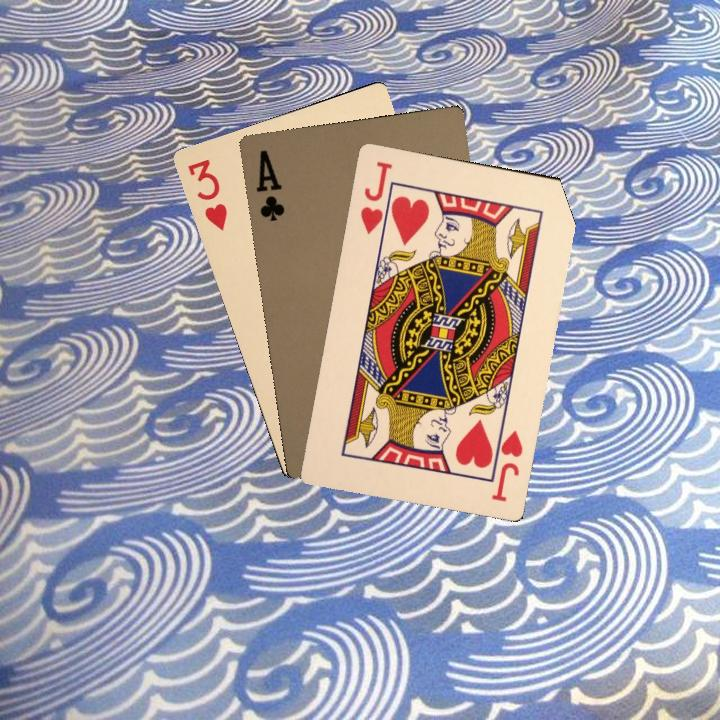3h: (183, 155, 230, 233)
Ac: (251, 145, 287, 224)
Jh: (356, 157, 397, 240), (484, 423, 526, 504)
